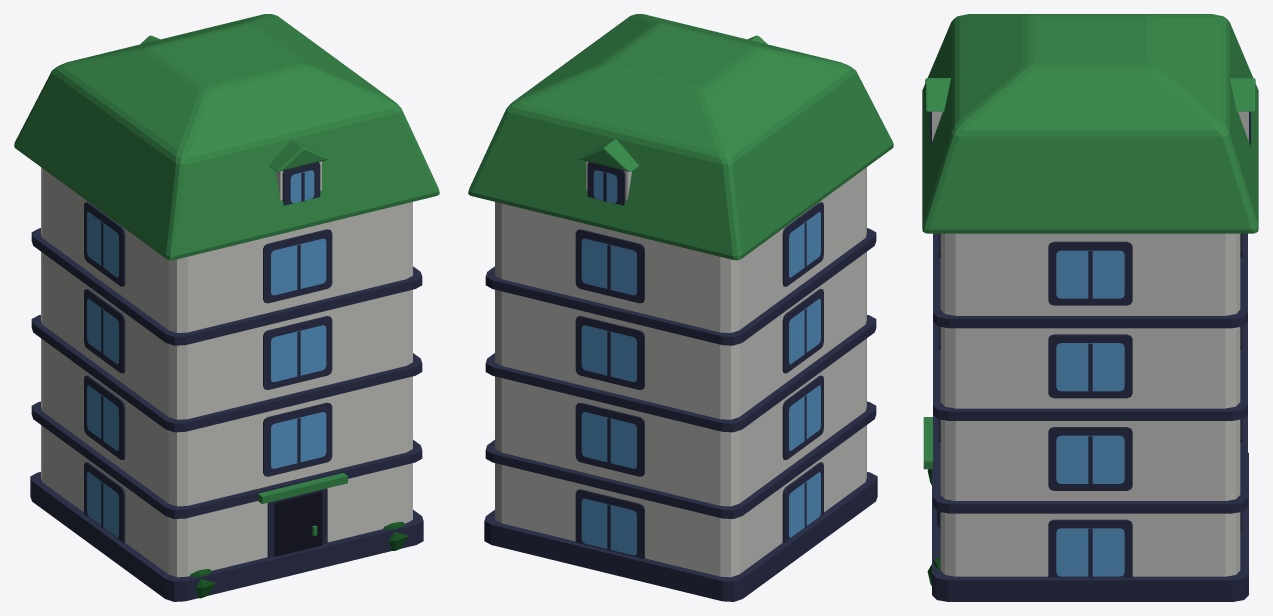
Rendered from house-1x1-4f-mansard-a.glb.
3 renders of one model, left to right at view 1: azimuth 30°, elevation 25°; view 2: azimuth 150°, elevation 25°; view 3: azimuth 270°, elevation 25°, orthographic. The views are drawn at different scales.
Parts seen in each view (by area): view 1: house-1x1-4f-mansard-a; view 2: house-1x1-4f-mansard-a; view 3: house-1x1-4f-mansard-a.
Part boxes in pixels (left/top/right/bottom): house-1x1-4f-mansard-a: left=14, top=14, right=439, bottom=601; house-1x1-4f-mansard-a: left=468, top=14, right=893, bottom=601; house-1x1-4f-mansard-a: left=922, top=14, right=1258, bottom=601.
Size of the model in its own units: 0.9876 by 1.6 by 0.9876.
Materials: 1 (1 with a texture image).
